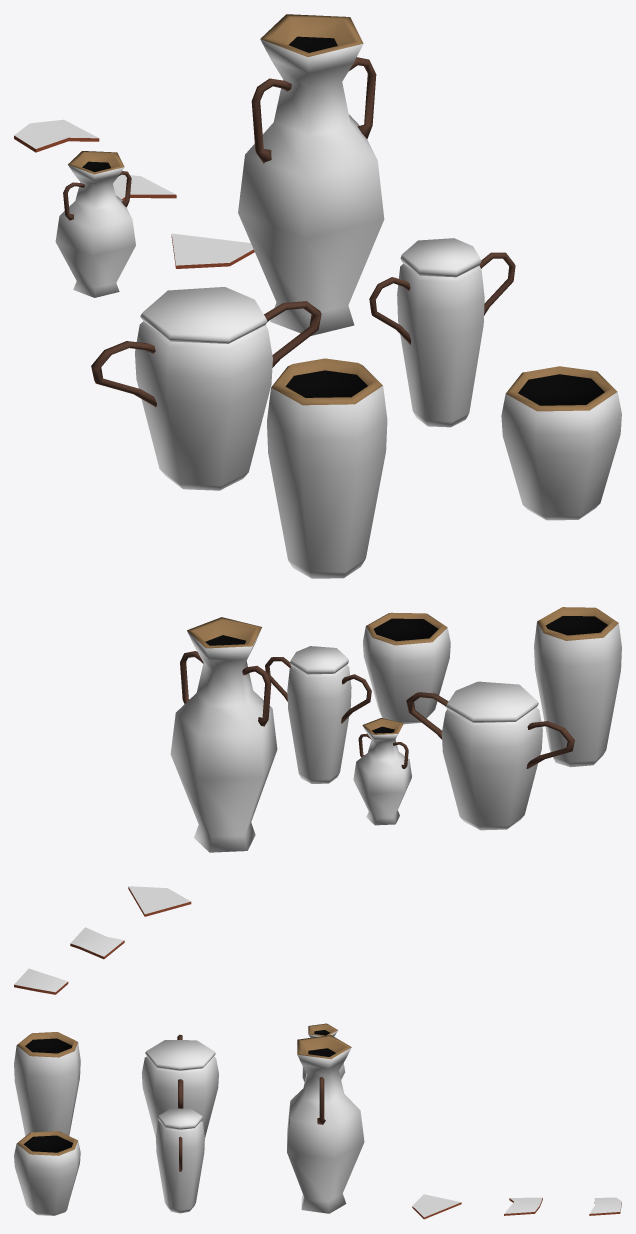
The model's file is vasi e cocci.fbx.
3 views of the same model, one above another, from view 1: azimuth 30°, elevation 25°; view 2: azimuth 150°, elevation 25°; view 3: azimuth 270°, elevation 25° (orthographic). The views are drawn at different scales.
Visible parts, largest first — view 1: Vaso_5, Vaso_4, Vaso_2, Vaso_3, Vaso_1, Vaso_6, Coccio, Coccio.002, Coccio.001; view 2: Vaso_5, Vaso_4, Vaso_2, Vaso_3, Vaso_1, Vaso_6, Coccio, Coccio.001, Coccio.002; view 3: Vaso_5, Vaso_2, Vaso_4, Vaso_1, Vaso_3, Coccio, Coccio.001, Coccio.002, Vaso_6.
Boxes of the visible parts, bbox=[...] form: Vaso_5: bbox=[238, 14, 384, 335]; Vaso_4: bbox=[91, 287, 321, 490]; Vaso_2: bbox=[267, 358, 387, 578]; Vaso_3: bbox=[369, 238, 515, 427]; Vaso_1: bbox=[501, 366, 621, 520]; Vaso_6: bbox=[55, 151, 135, 297]; Coccio: bbox=[171, 233, 254, 268]; Coccio.002: bbox=[14, 119, 99, 152]; Coccio.001: bbox=[113, 174, 176, 200]; Vaso_5: bbox=[170, 617, 277, 852]; Vaso_4: bbox=[406, 681, 574, 830]; Vaso_2: bbox=[534, 607, 621, 767]; Vaso_3: bbox=[265, 646, 371, 783]; Vaso_1: bbox=[363, 612, 450, 724]; Vaso_6: bbox=[353, 718, 411, 825]; Coccio: bbox=[128, 886, 191, 916]; Coccio.001: bbox=[70, 927, 124, 959]; Coccio.002: bbox=[14, 968, 68, 994]; Vaso_5: bbox=[287, 1035, 364, 1213]; Vaso_2: bbox=[14, 1032, 80, 1135]; Vaso_4: bbox=[141, 1034, 218, 1137]; Vaso_1: bbox=[14, 1131, 80, 1215]; Vaso_3: bbox=[156, 1108, 204, 1213]; Coccio: bbox=[412, 1194, 461, 1219]; Coccio.001: bbox=[504, 1197, 542, 1215]; Coccio.002: bbox=[589, 1197, 621, 1215]; Vaso_6: bbox=[302, 1023, 345, 1081].
Bounding box in the file's own units: 163 × 108 × 367.
